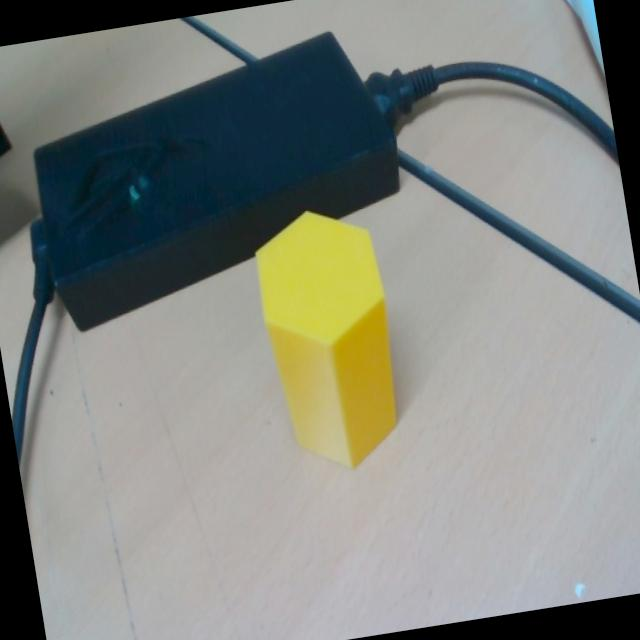hexagon: (257, 212, 394, 467)
